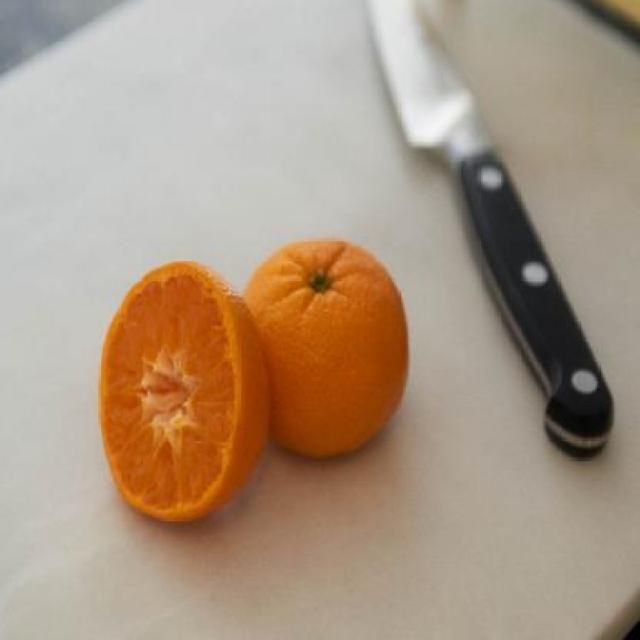Jeruk Sudah Matang: (234, 237, 406, 465)
